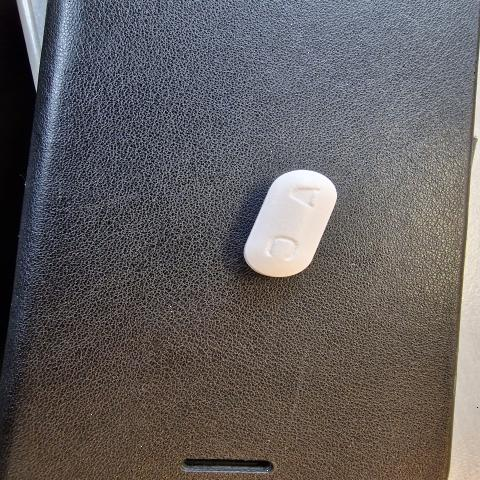Pill: (221, 158, 377, 292)
